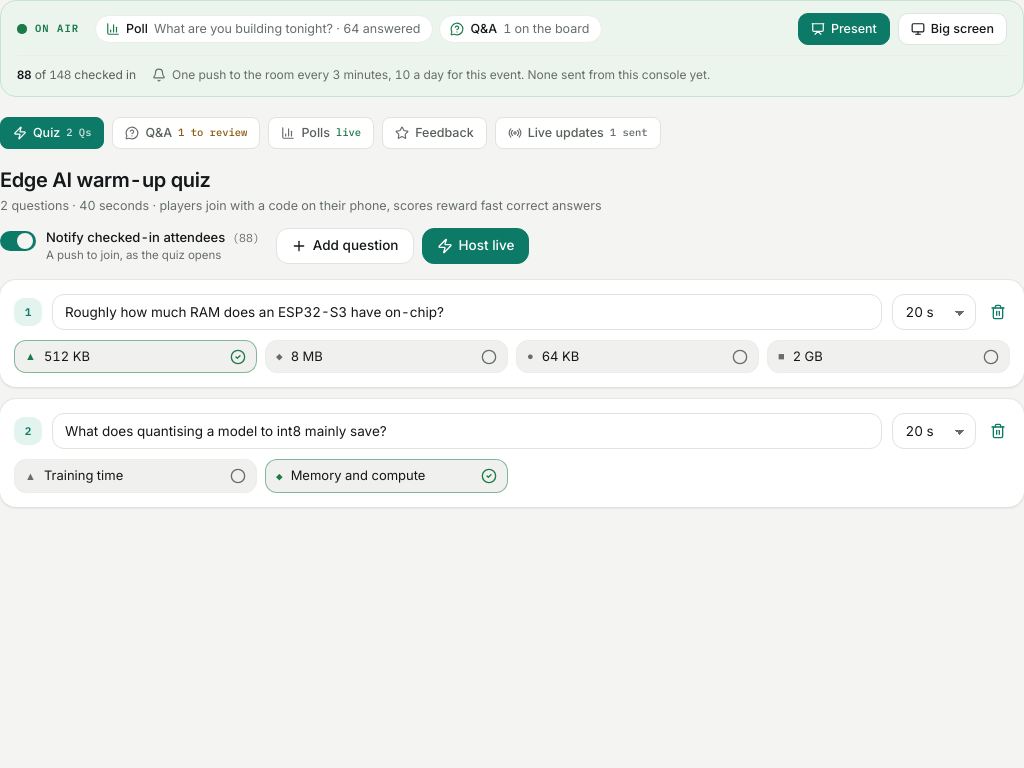
Test: the host's guards › asks before restarting a quiz another console started, and only a yes sends restart
This screenshot has width=1024, height=768.
What coordinates should you click on to do the following:
click the button "Host live"
I would click on:
 (475, 246)
Its box is [422,228,529,264].
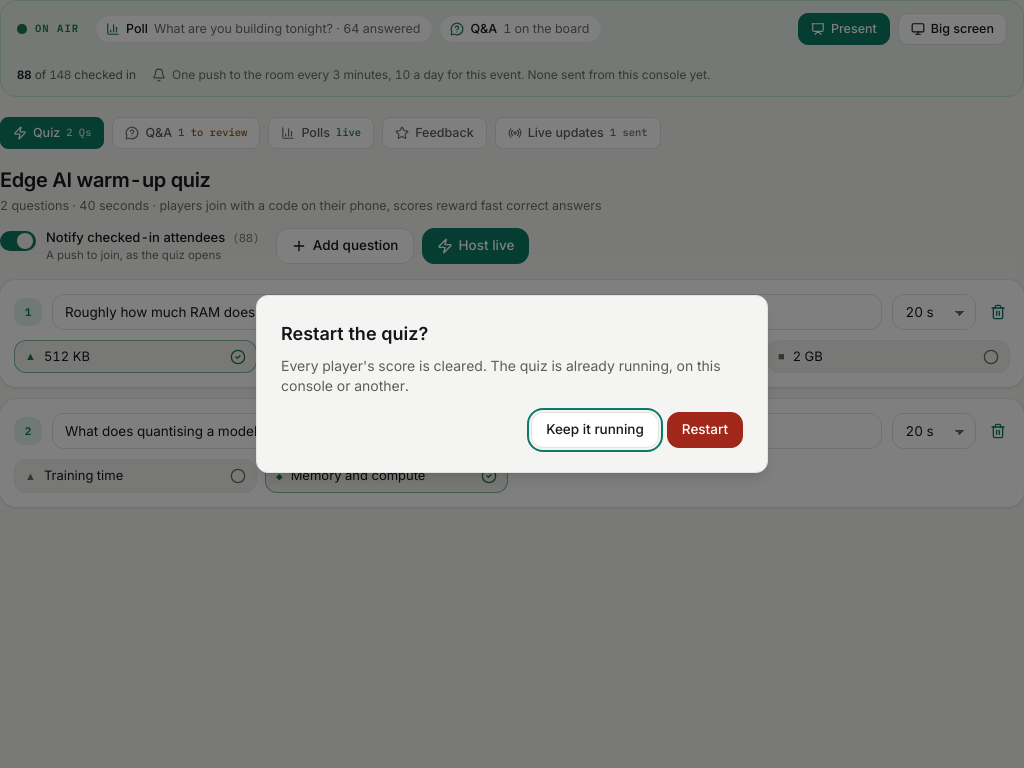
Now the heading "Restart the quiz?" is shown, box [281,323,428,344]
Now the text "Every player's score is cleared" is shown, box [281,357,721,394]
What coordinates should you click on to do the following:
click the button "Restart"
I would click on:
 (705, 430)
Its box is [667,412,743,448].
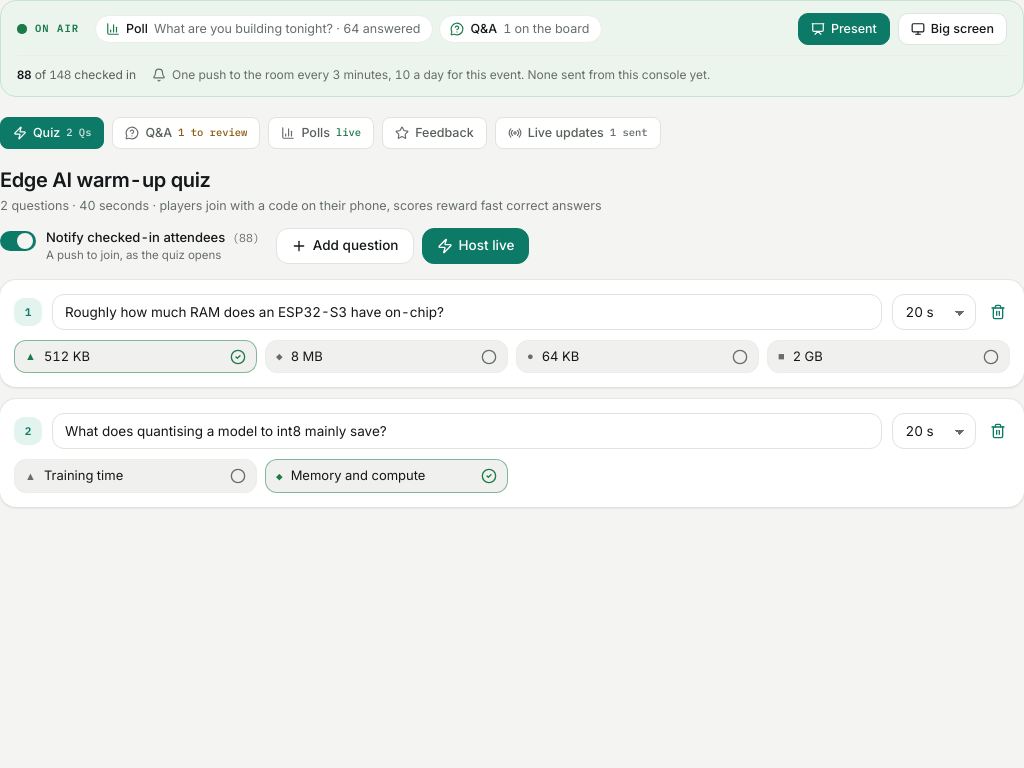
Now the dialog is gone
